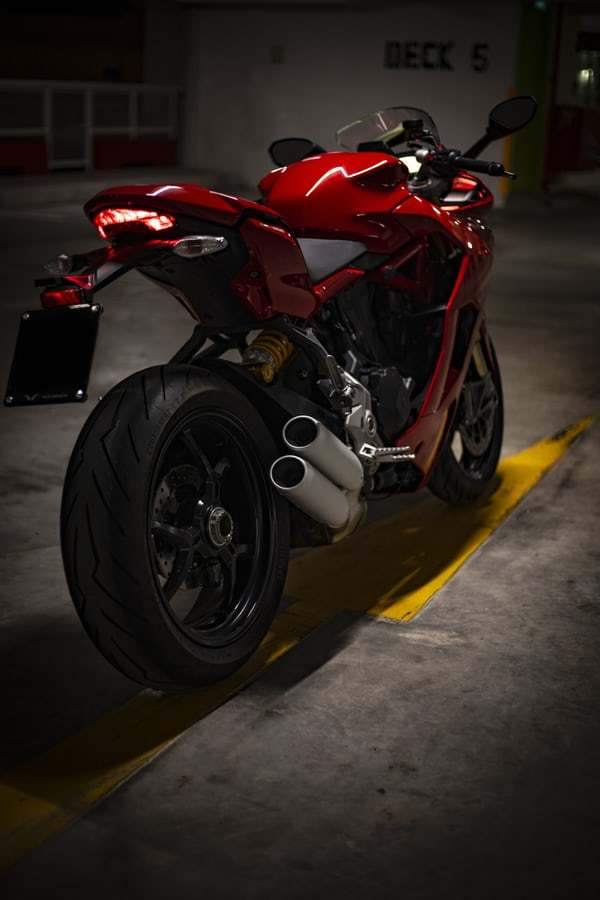8_label: (2, 70, 600, 700)
